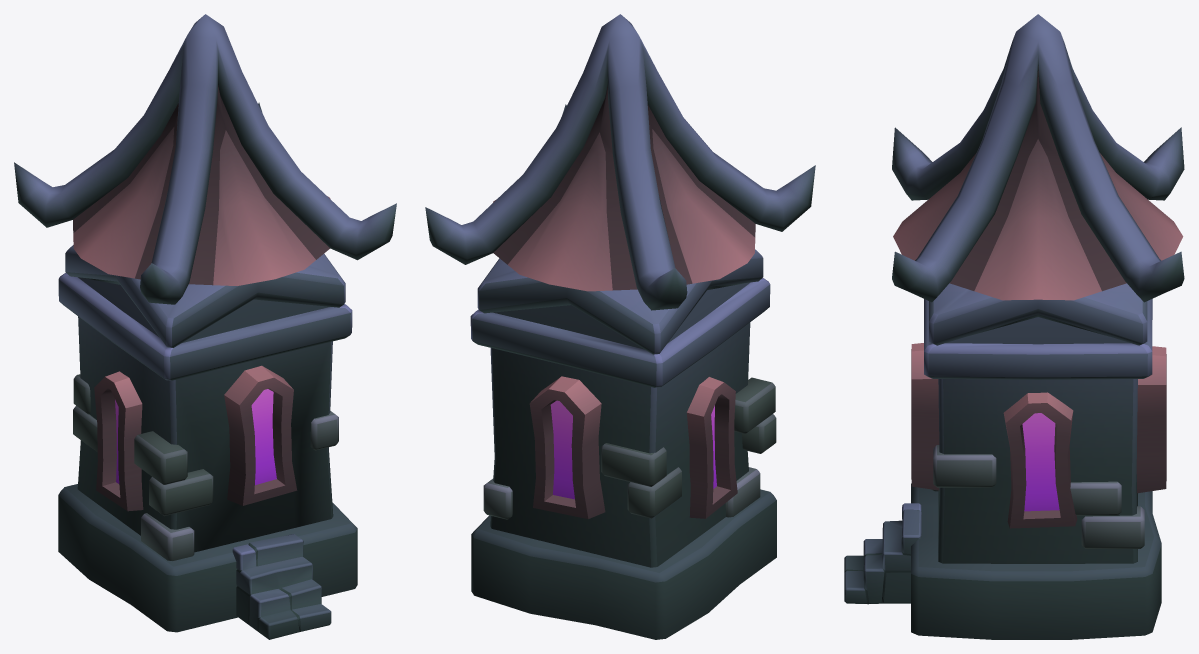
The model's file is undead_tower.fbx.
The picture shows the model from 3 angles, left to right: view 1: azimuth 30°, elevation 25°; view 2: azimuth 150°, elevation 25°; view 3: azimuth 270°, elevation 25°; orthographic projection. The views are drawn at different scales.
Parts seen in each view (by area): view 1: undead_tower; view 2: undead_tower; view 3: undead_tower.
Boxes of the visible parts, x1=… form: undead_tower: x1=14, y1=14, x2=396, y2=639; undead_tower: x1=425, y1=14, x2=815, y2=639; undead_tower: x1=844, y1=14, x2=1184, y2=639.
Size of the model in its own units: 3.88 by 8.23 by 4.42.
